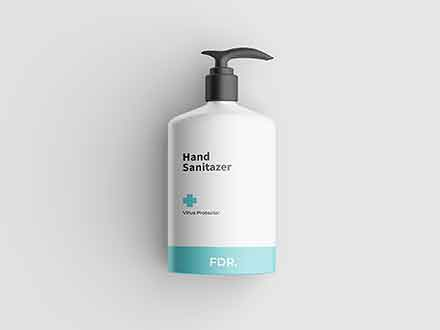Medicine: (160, 33, 298, 289)
